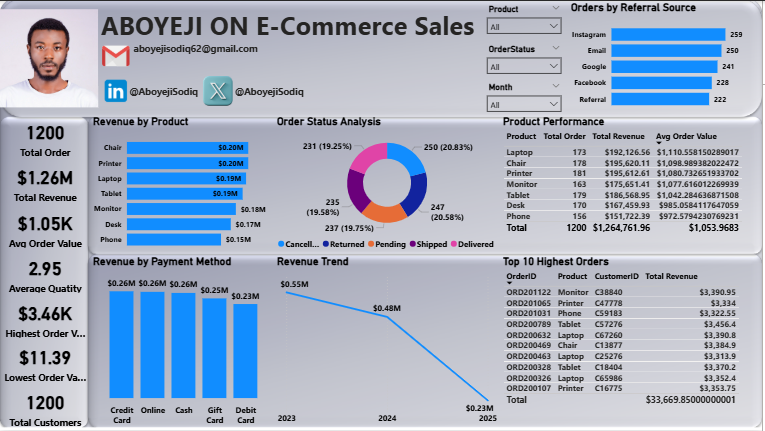

This screenshot's page, from the dashboard's own definition file:
{"tool":"powerbi","page":{"name":"Page 1","canvas":[1280,720],"ordinal":0},"visuals":[{"type":"card","fields":{"Values":["DAX TABLE.Total Order"]},"box":[0,191.7,151.7,75],"z":0},{"type":"card","fields":{"Values":["DAX TABLE.Total Revenue"]},"box":[0,266.7,151.7,75],"z":1000},{"type":"card","fields":{"Values":["DAX TABLE.Avg Order Value"]},"box":[0,345,151.7,75],"z":2000},{"type":"card","fields":{"Values":["DAX TABLE.Average Quatity"]},"box":[0,420,151.7,75],"z":3000},{"type":"card","fields":{"Values":["DAX TABLE.Highest Order Value"]},"box":[0,495,151.7,75],"z":4000},{"type":"card","fields":{"Values":["DAX TABLE.Lowest Order Value"]},"box":[0,570,151.7,75],"z":5000},{"type":"barChart","title":"Revenue by Product","fields":{"Category":["Sheet.Product"],"Y":["DAX TABLE.Total Revenue"]},"box":[151.7,191.7,308.3,235],"z":6000},{"type":"lineChart","title":"Revenue Trend","fields":{"Category":["Sheet.Date.Variation.Date Hierarchy.Year"],"Y":["DAX TABLE.Total Revenue"]},"box":[460,426.7,380,293.3],"z":7000},{"type":"donutChart","title":"Order Status Analysis","fields":{"Category":["Sheet.OrderStatus"],"Y":["DAX TABLE.Total Order"]},"box":[460,191.7,380,235],"z":8000},{"type":"columnChart","title":"Revenue by Payment Method","fields":{"Category":["Sheet.PaymentMethod"],"Y":["DAX TABLE.Total Revenue"]},"box":[151.7,426.7,308.3,293.3],"z":9000},{"type":"clusteredBarChart","title":"Orders by Referral Source","fields":{"Category":["Sheet.ReferralSource"],"Y":["DAX TABLE.Total Order"]},"box":[953.3,0,298.3,191.7],"z":10000},{"type":"tableEx","title":"Product Performance","fields":{"Values":["Sheet.Product","DAX TABLE.Total Order","DAX TABLE.Total Revenue","DAX TABLE.Avg Order Value"]},"box":[840,191.7,411.7,235],"z":11000},{"type":"tableEx","title":"Top 10 Highest Orders","fields":{"Values":["Sheet.OrderID","Sheet.Product","Sheet.CustomerID","DAX TABLE.Total Revenue"]},"box":[840,426.7,411.7,293.3],"z":12000},{"type":"card","fields":{"Values":["DAX TABLE.Total Customers"]},"box":[0,645,151.7,75],"z":13000},{"type":"slicer","fields":{"Values":["Sheet.Product"]},"box":[808.3,0,145,60],"z":14000},{"type":"slicer","fields":{"Values":["Sheet.Date.Variation.Date Hierarchy.Month"]},"box":[808.3,131.7,145,60],"z":15000},{"type":"slicer","fields":{"Values":["Sheet.OrderStatus"]},"box":[808.3,66.7,145,60],"z":16000},{"type":"image","box":[0,6.7,165,178.3],"z":17000},{"type":"textbox","box":[165,6.7,643.3,170],"z":18000},{"type":"image","box":[336.7,126.7,60,50],"z":19000},{"type":"image","box":[165,126.7,60,50],"z":20000},{"type":"image","box":[165,66.7,60,50],"z":21000}]}

Visuals, with their boxes in screenshot pixels (x1, y1, x2, y2), scaled from the page's 1280x720 canvas onto the 765x431 screenshot:
card - DAX TABLE.Total Order: crop(0, 115, 91, 160)
card - DAX TABLE.Total Revenue: crop(0, 160, 91, 205)
card - DAX TABLE.Avg Order Value: crop(0, 207, 91, 251)
card - DAX TABLE.Average Quatity: crop(0, 251, 91, 296)
card - DAX TABLE.Highest Order Value: crop(0, 296, 91, 341)
card - DAX TABLE.Lowest Order Value: crop(0, 341, 91, 386)
"Revenue by Product" barChart: crop(91, 115, 275, 255)
"Revenue Trend" lineChart: crop(275, 255, 502, 430)
"Order Status Analysis" donutChart: crop(275, 115, 502, 255)
"Revenue by Payment Method" columnChart: crop(91, 255, 275, 430)
"Orders by Referral Source" clusteredBarChart: crop(570, 0, 748, 115)
"Product Performance" tableEx: crop(502, 115, 748, 255)
"Top 10 Highest Orders" tableEx: crop(502, 255, 748, 430)
card - DAX TABLE.Total Customers: crop(0, 386, 91, 430)
slicer - Sheet.Product: crop(483, 0, 570, 36)
slicer - Sheet.Date.Variation.Date Hierarchy.Month: crop(483, 79, 570, 115)
slicer - Sheet.OrderStatus: crop(483, 40, 570, 76)
image: crop(0, 4, 99, 111)
textbox: crop(99, 4, 483, 106)
image: crop(201, 76, 237, 106)
image: crop(99, 76, 134, 106)
image: crop(99, 40, 134, 70)
